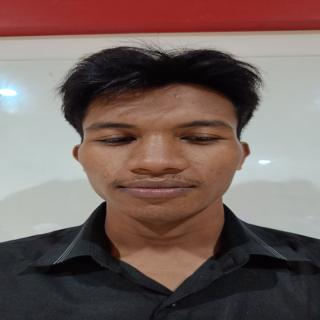Sedih: (77, 79, 242, 230)
